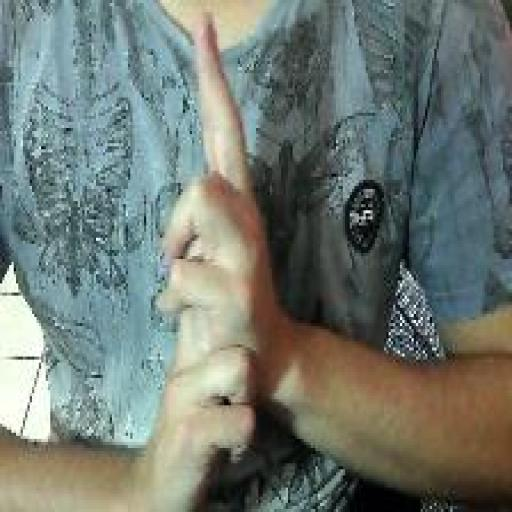Hitsuji -ram-: (153, 6, 263, 497)
